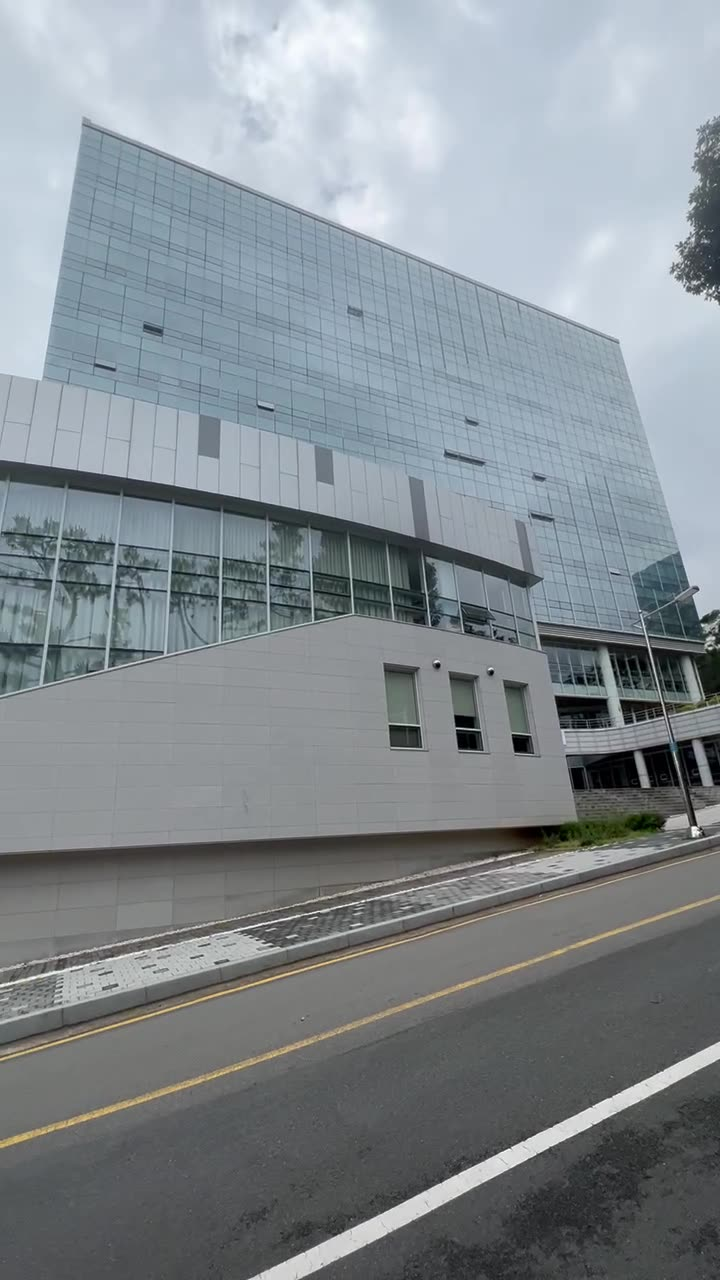medium: (36, 126, 678, 820)
